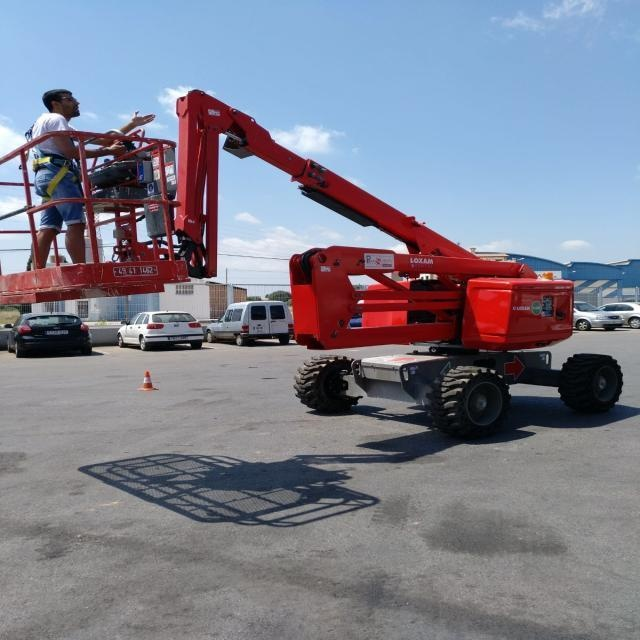Arnes_seguridad: (34, 154, 84, 202)
